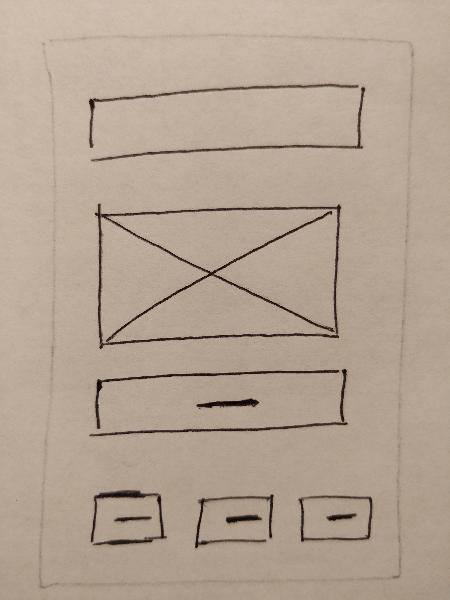button: (80, 363, 357, 440), (80, 483, 173, 551), (184, 490, 280, 554), (293, 484, 383, 550)
image: (84, 196, 365, 356)
text_input: (73, 66, 370, 166)
